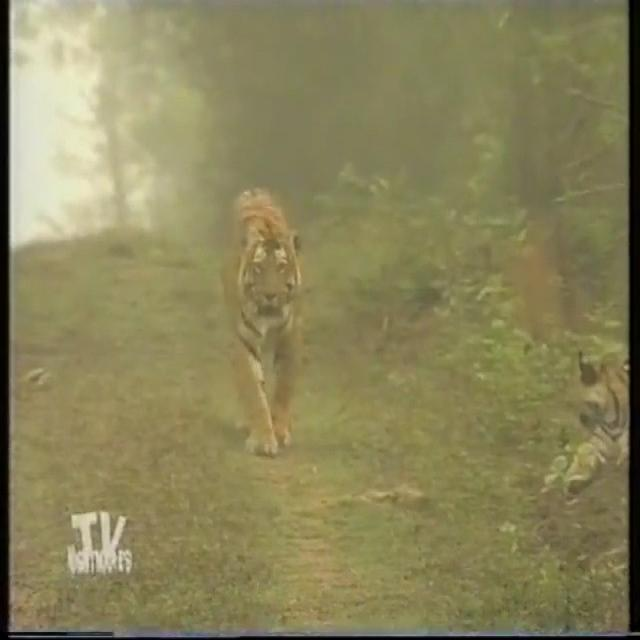TIGER: (213, 184, 312, 456)
